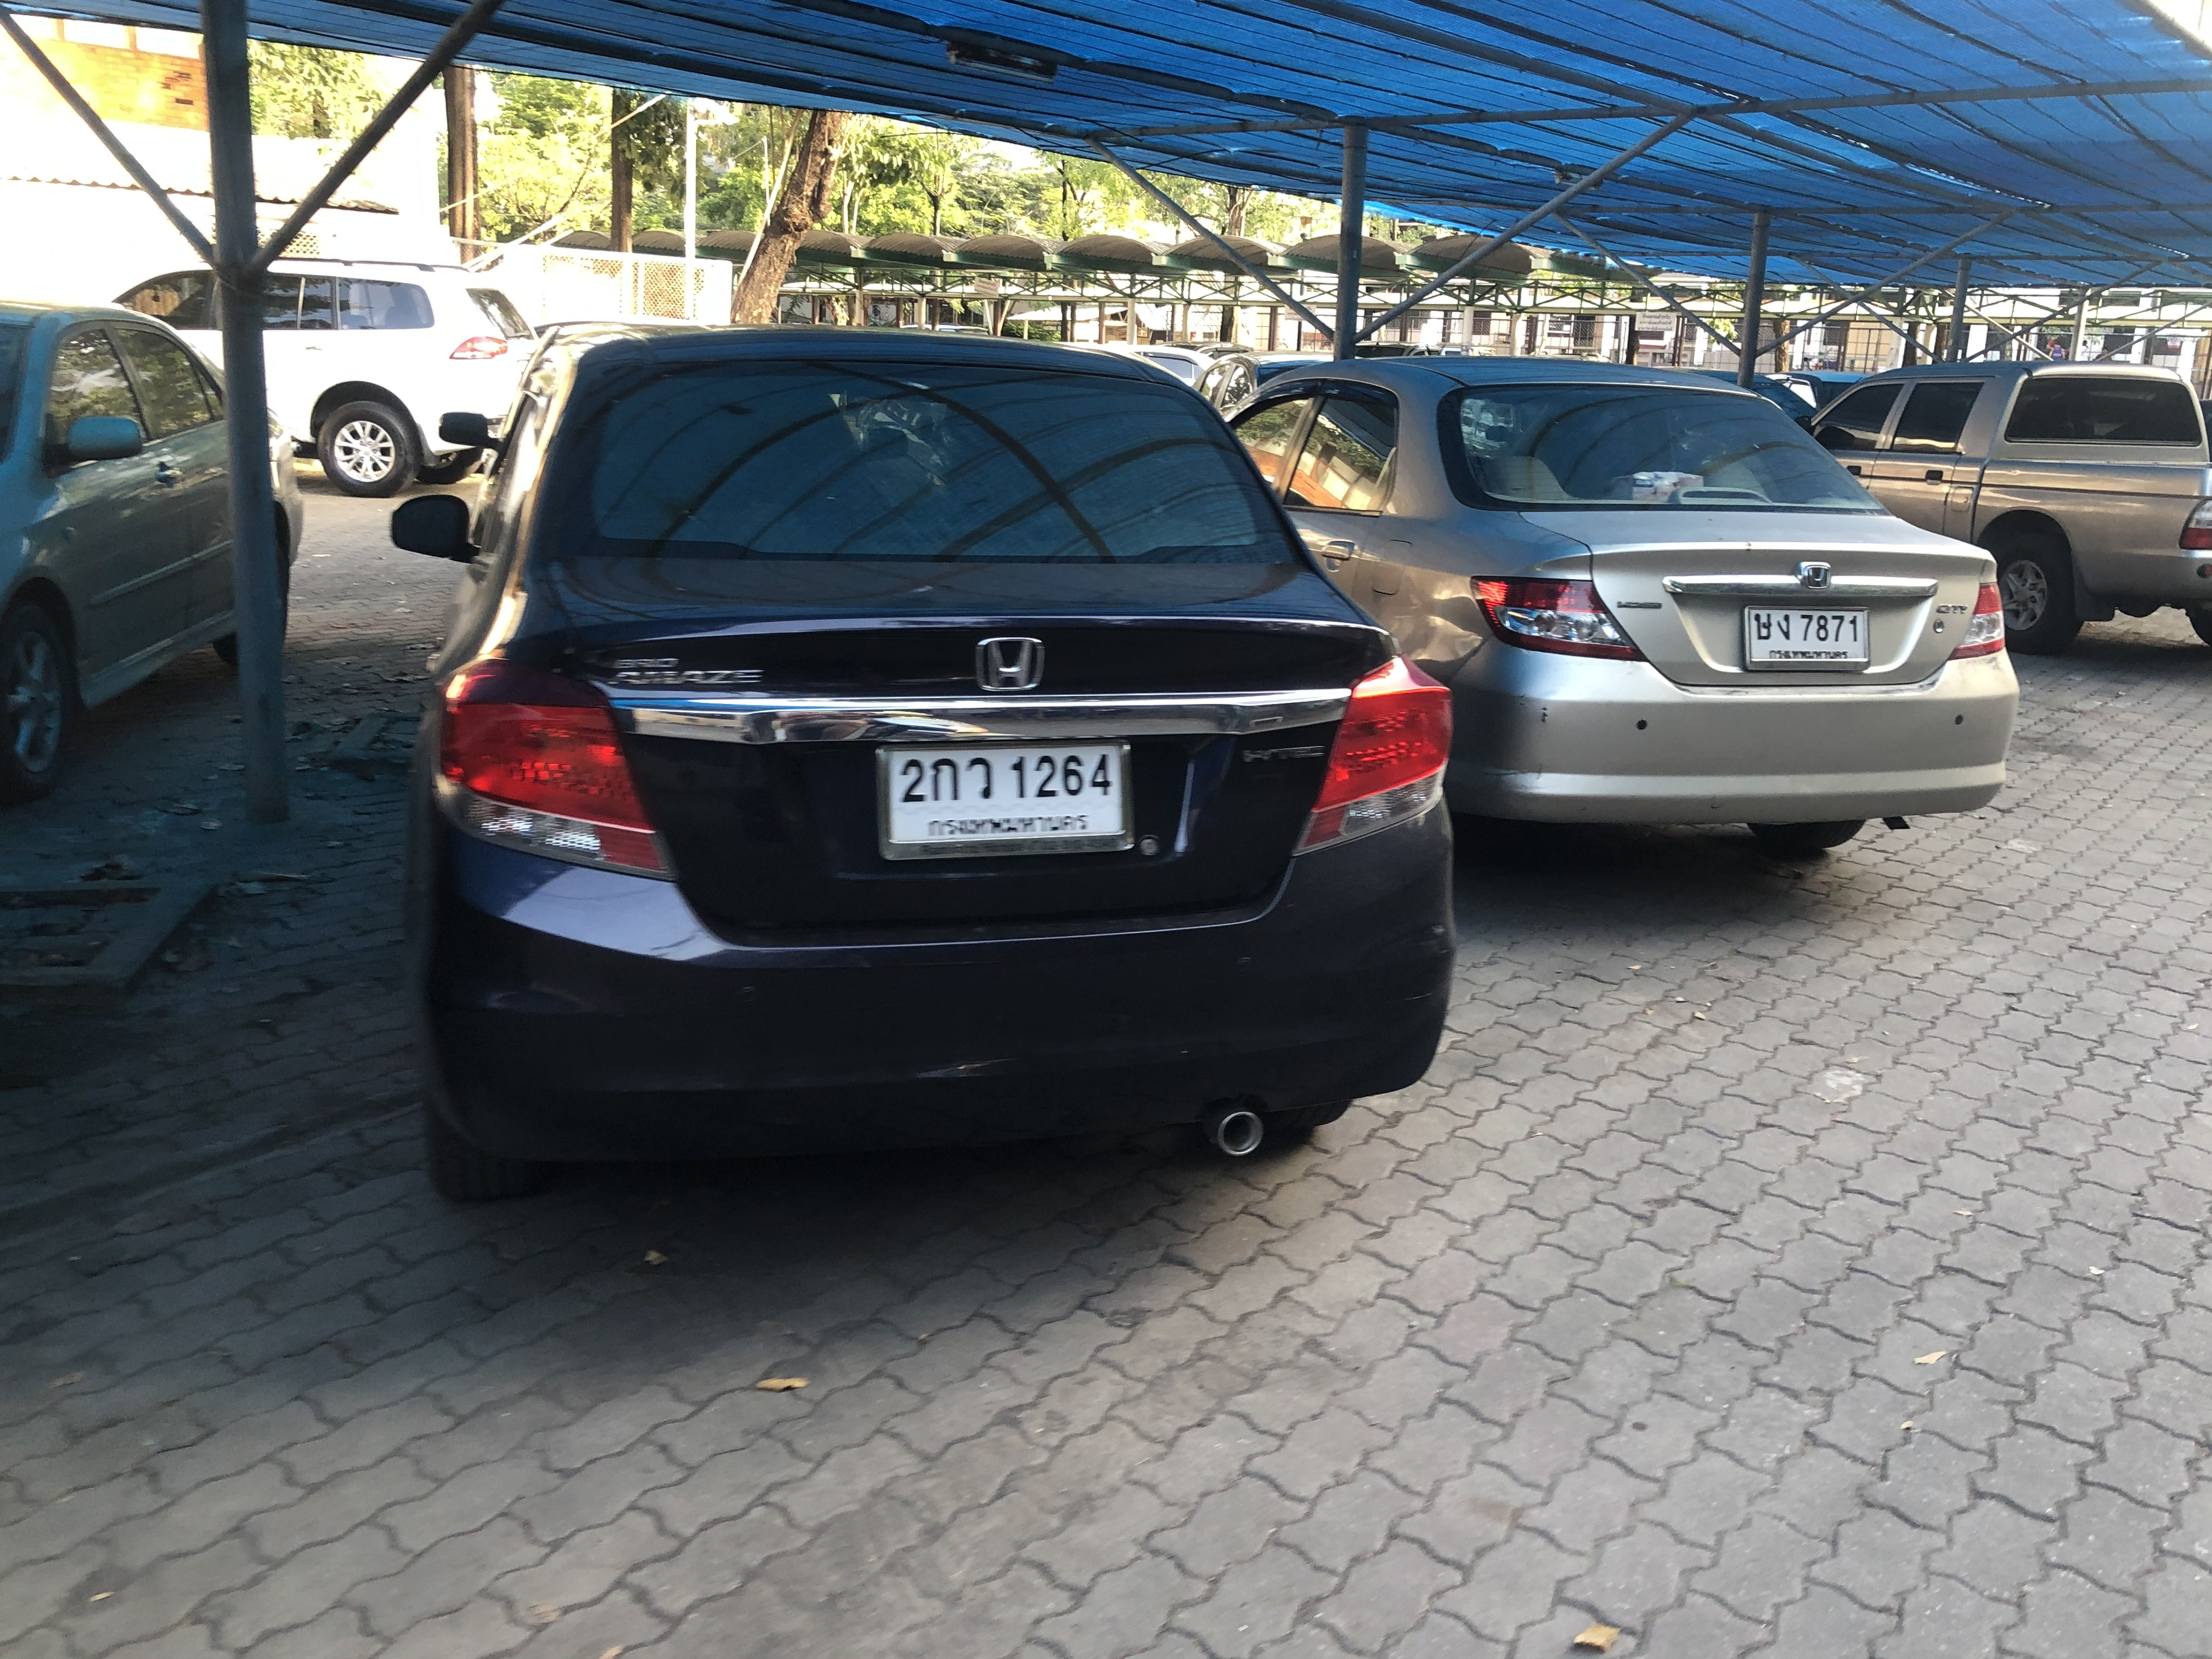in: (892, 751, 1127, 842), (1749, 612, 1865, 662)
out: (871, 742, 1144, 859), (1737, 598, 1876, 676)
